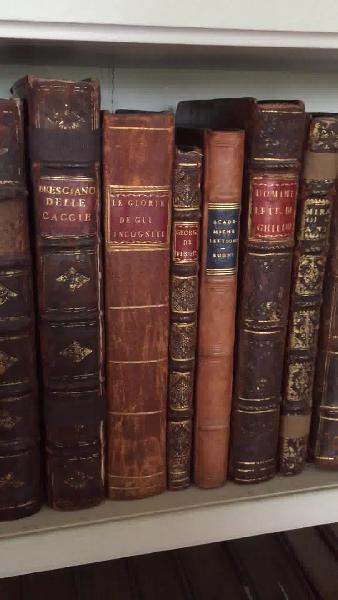Aa6-32: (18, 71, 117, 517)
Aa6-33: (97, 103, 172, 500)
Aa6-34: (172, 148, 198, 497)
Aa6-35: (192, 125, 246, 480)
Aa6-36: (241, 98, 297, 482)
Aa6-37: (278, 105, 338, 475)
